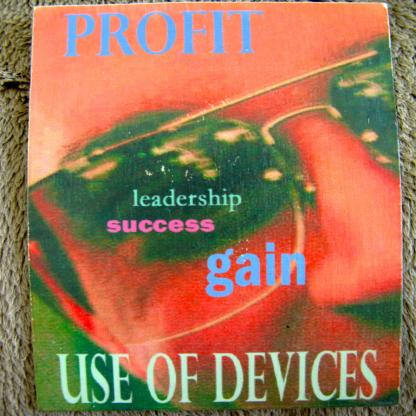book: (27, 0, 395, 406)
